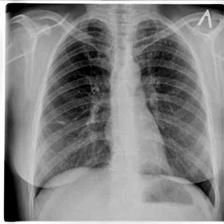tuberculosis: (27, 14, 220, 212)
